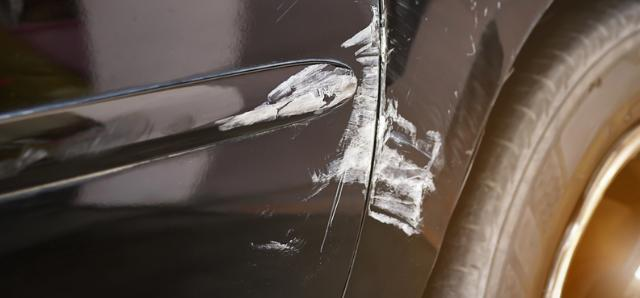Door: (241, 0, 376, 252)
Fender: (377, 5, 451, 273)
